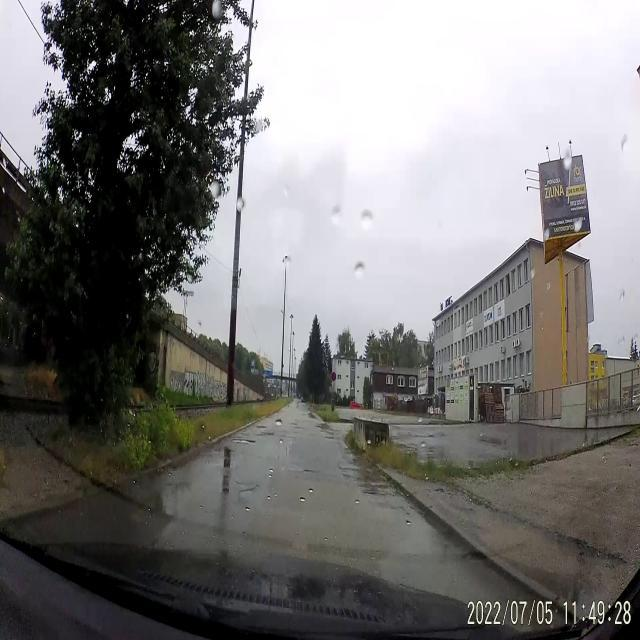Pothole: (232, 431, 256, 451), (260, 431, 275, 438), (255, 422, 268, 430)
